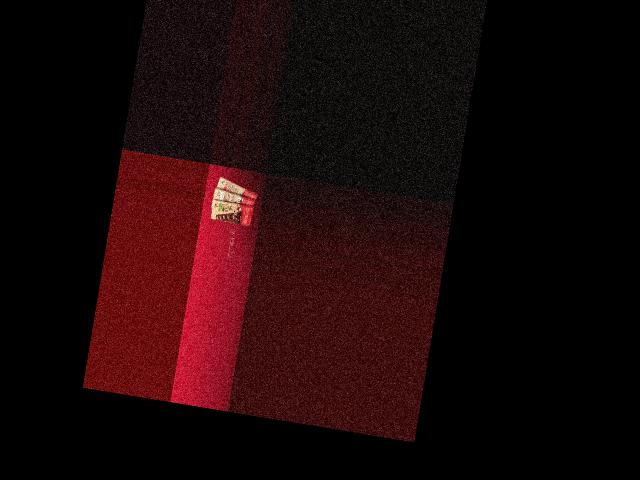chocolate: (212, 176, 261, 204)
